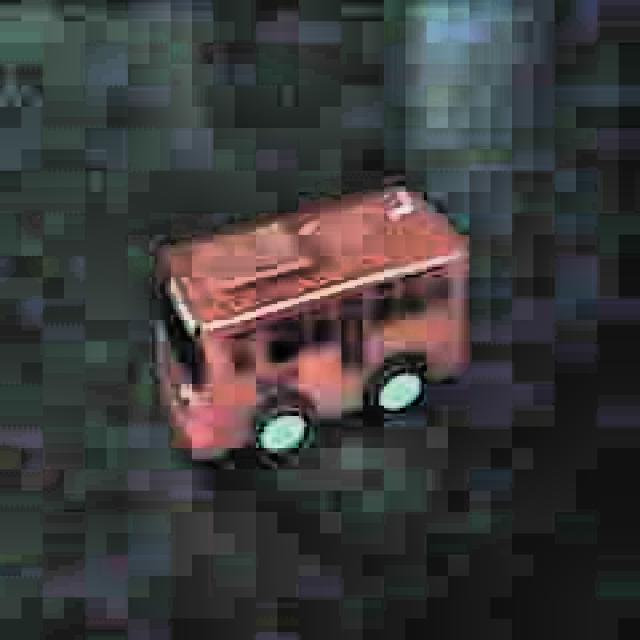bus: (141, 172, 487, 482)
